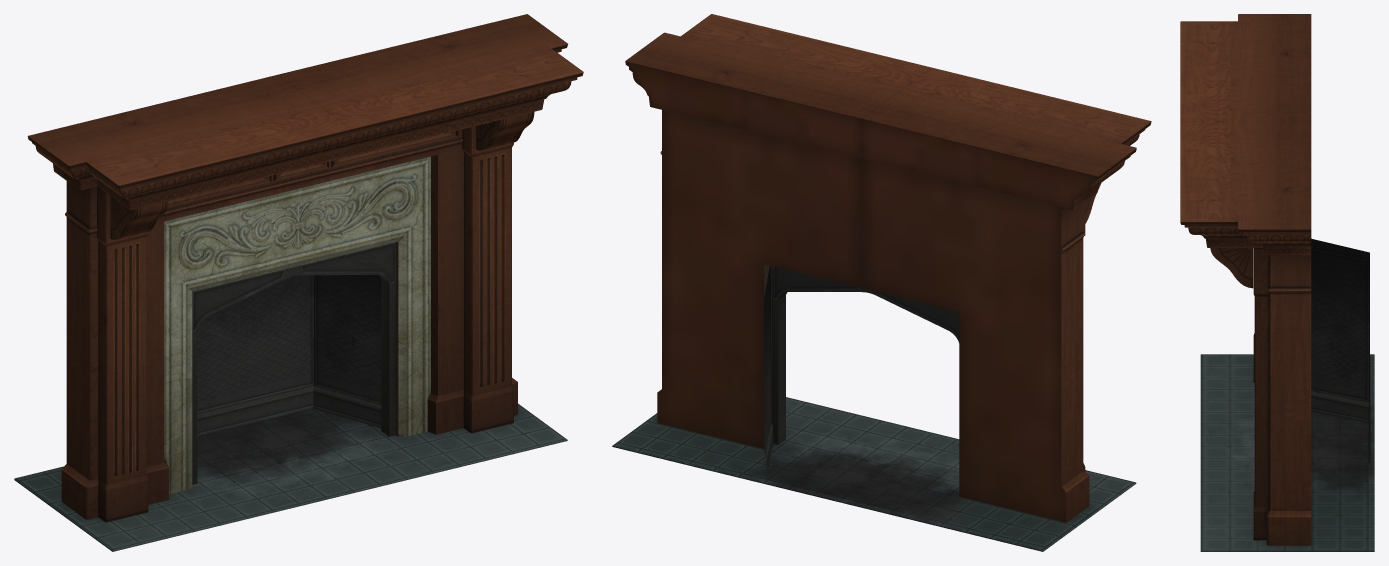
Rendered from fireplace.obj.
3 views of the same model, side by side, from view 1: azimuth 30°, elevation 25°; view 2: azimuth 150°, elevation 25°; view 3: azimuth 270°, elevation 25° (orthographic). The views are drawn at different scales.
Visible parts, largest first — view 1: fireplace; view 2: fireplace; view 3: fireplace.
Boxes of the visible parts, x1,y1,x2,y2 form: fireplace: [14, 14, 583, 551]; fireplace: [612, 14, 1151, 551]; fireplace: [1180, 14, 1374, 551].
Size of the model in its own units: 0.061 by 0.0439 by 0.0233.
Materials: 1 (1 with a texture image).
